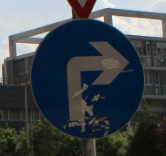right_turn: (31, 19, 144, 139)
